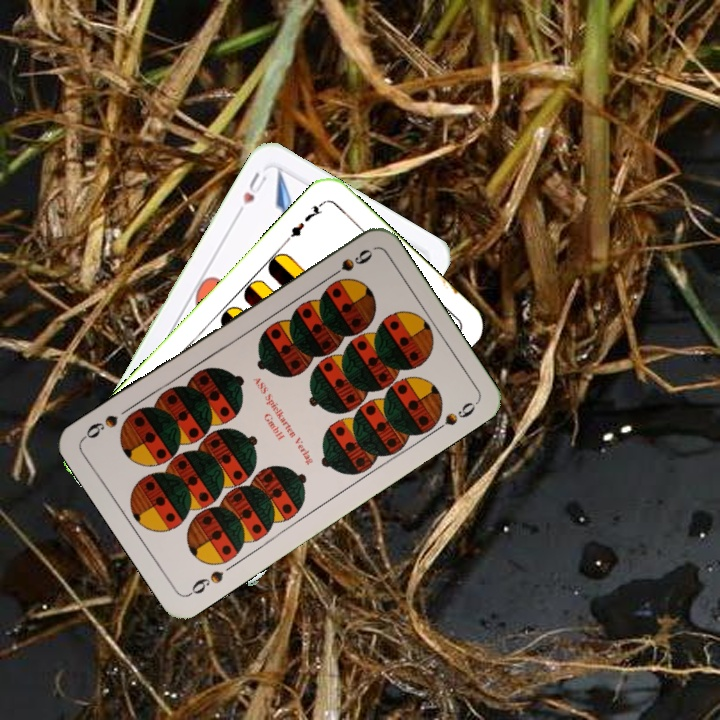E7: (282, 198, 327, 245)
HU: (233, 168, 270, 217)
S9: (322, 244, 375, 283), (184, 566, 226, 599)
